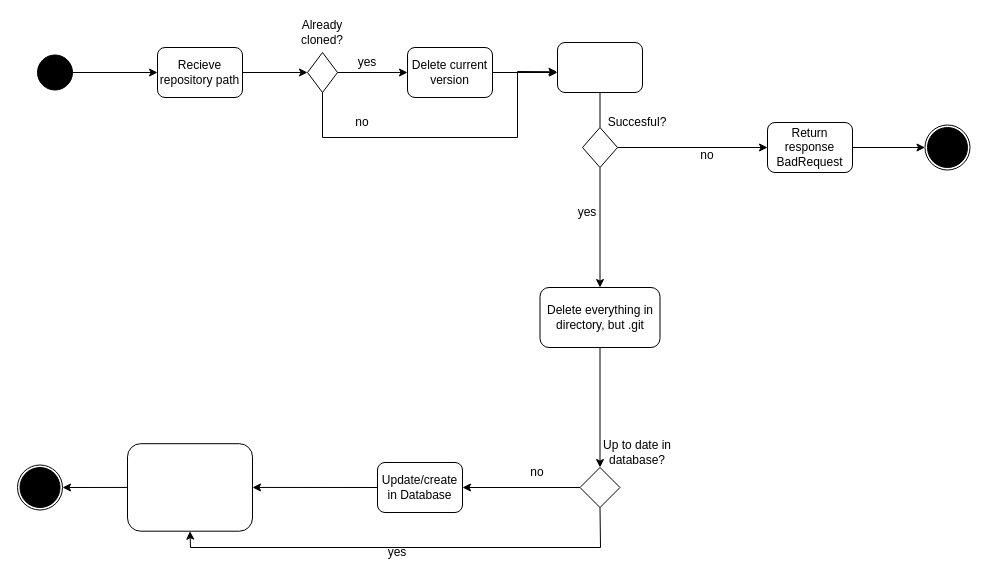
The diagram is 988 pixels wide and 584 high, and some of its shapes have lost their labels. The box of each missing label's shape, as (x1, y1, x2, y2) in pixels:
Clone repository: (556, 42, 642, 92)
Return response ok, and number of comits by date for each author in repository: (126, 443, 252, 531)
